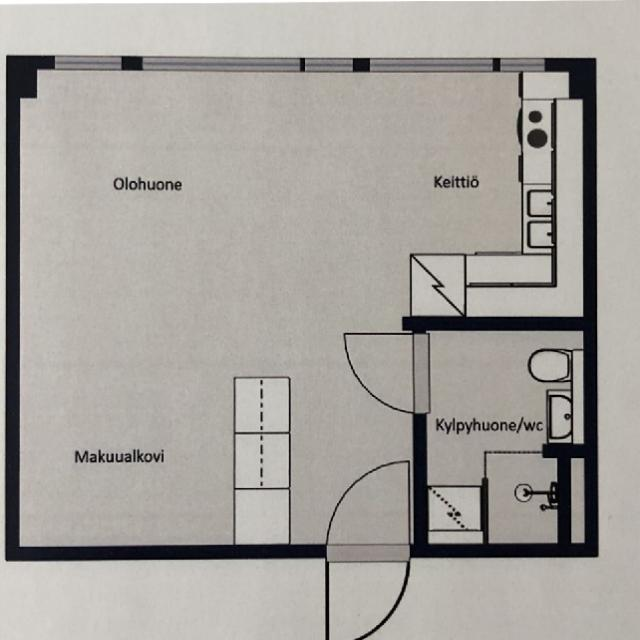door: (326, 452, 410, 556), (326, 542, 409, 640), (340, 334, 427, 413)
